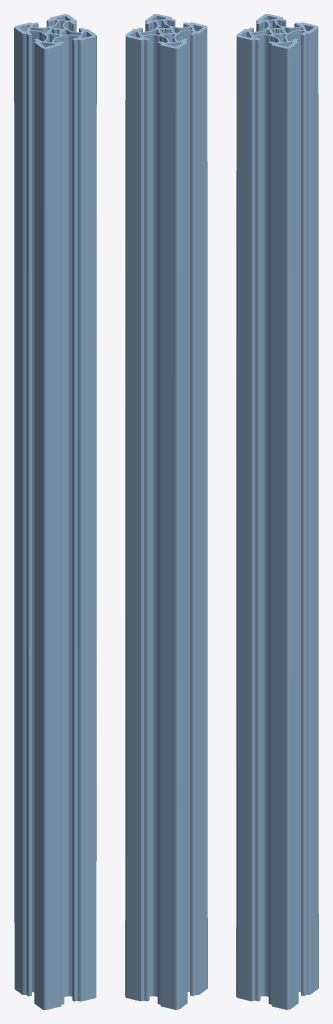
Rendered from ST_EXT_001_0765.gltf.
The picture shows the model from 3 angles, left to right: view 1: azimuth 30°, elevation 25°; view 2: azimuth 150°, elevation 25°; view 3: azimuth 330°, elevation 25°; orthographic projection.
Bounding box in the file's own units: 0.045 × 0.765 × 0.045.
